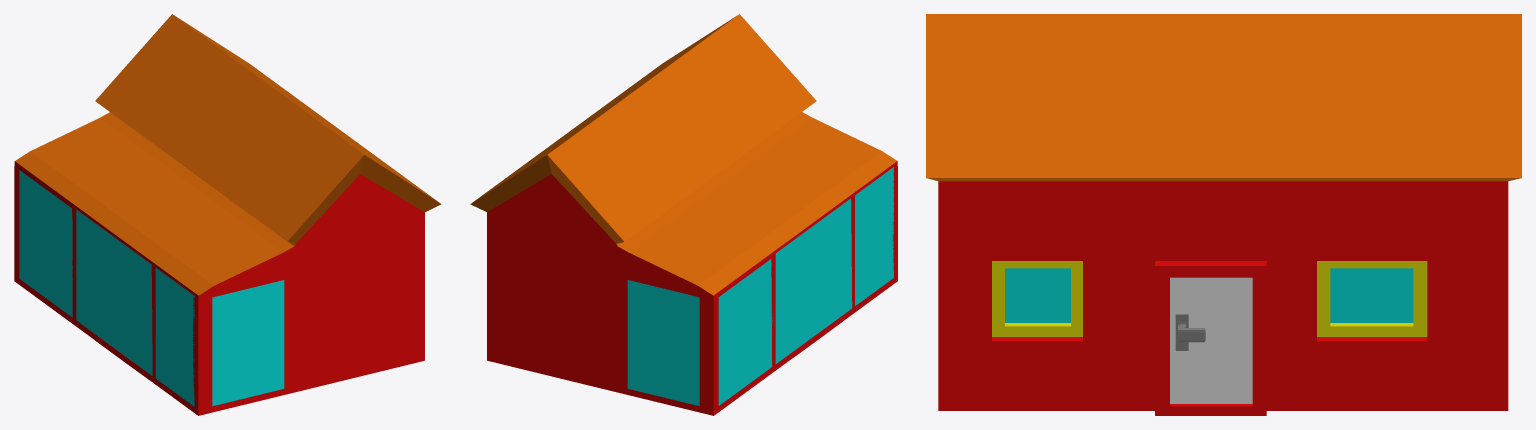
File: Village_Apartment_Small_2.fbx
3 renders of one model, left to right at view 1: azimuth 30°, elevation 25°; view 2: azimuth 150°, elevation 25°; view 3: azimuth 270°, elevation 25°, orthographic. The views are drawn at different scales.
Parts seen in each view (by area): view 1: Cube; view 2: Cube; view 3: Cube, Cube_002.
Boxes of the visible parts, x1,y1,x2,y2 form: Cube: (14, 14, 441, 415); Cube: (470, 14, 897, 415); Cube: (926, 14, 1521, 415); Cube_002: (1170, 277, 1252, 403).
Size of the model in its own units: 552 by 495 by 768.
